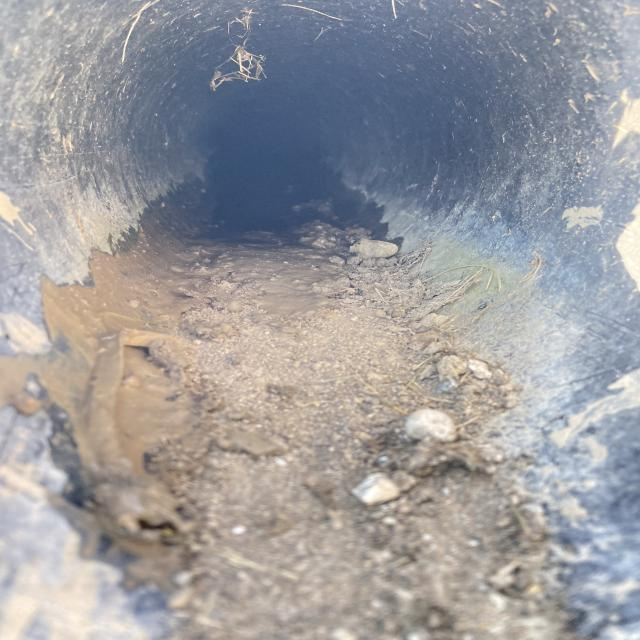dirt: (130, 216, 496, 637)
root: (214, 18, 269, 91)
